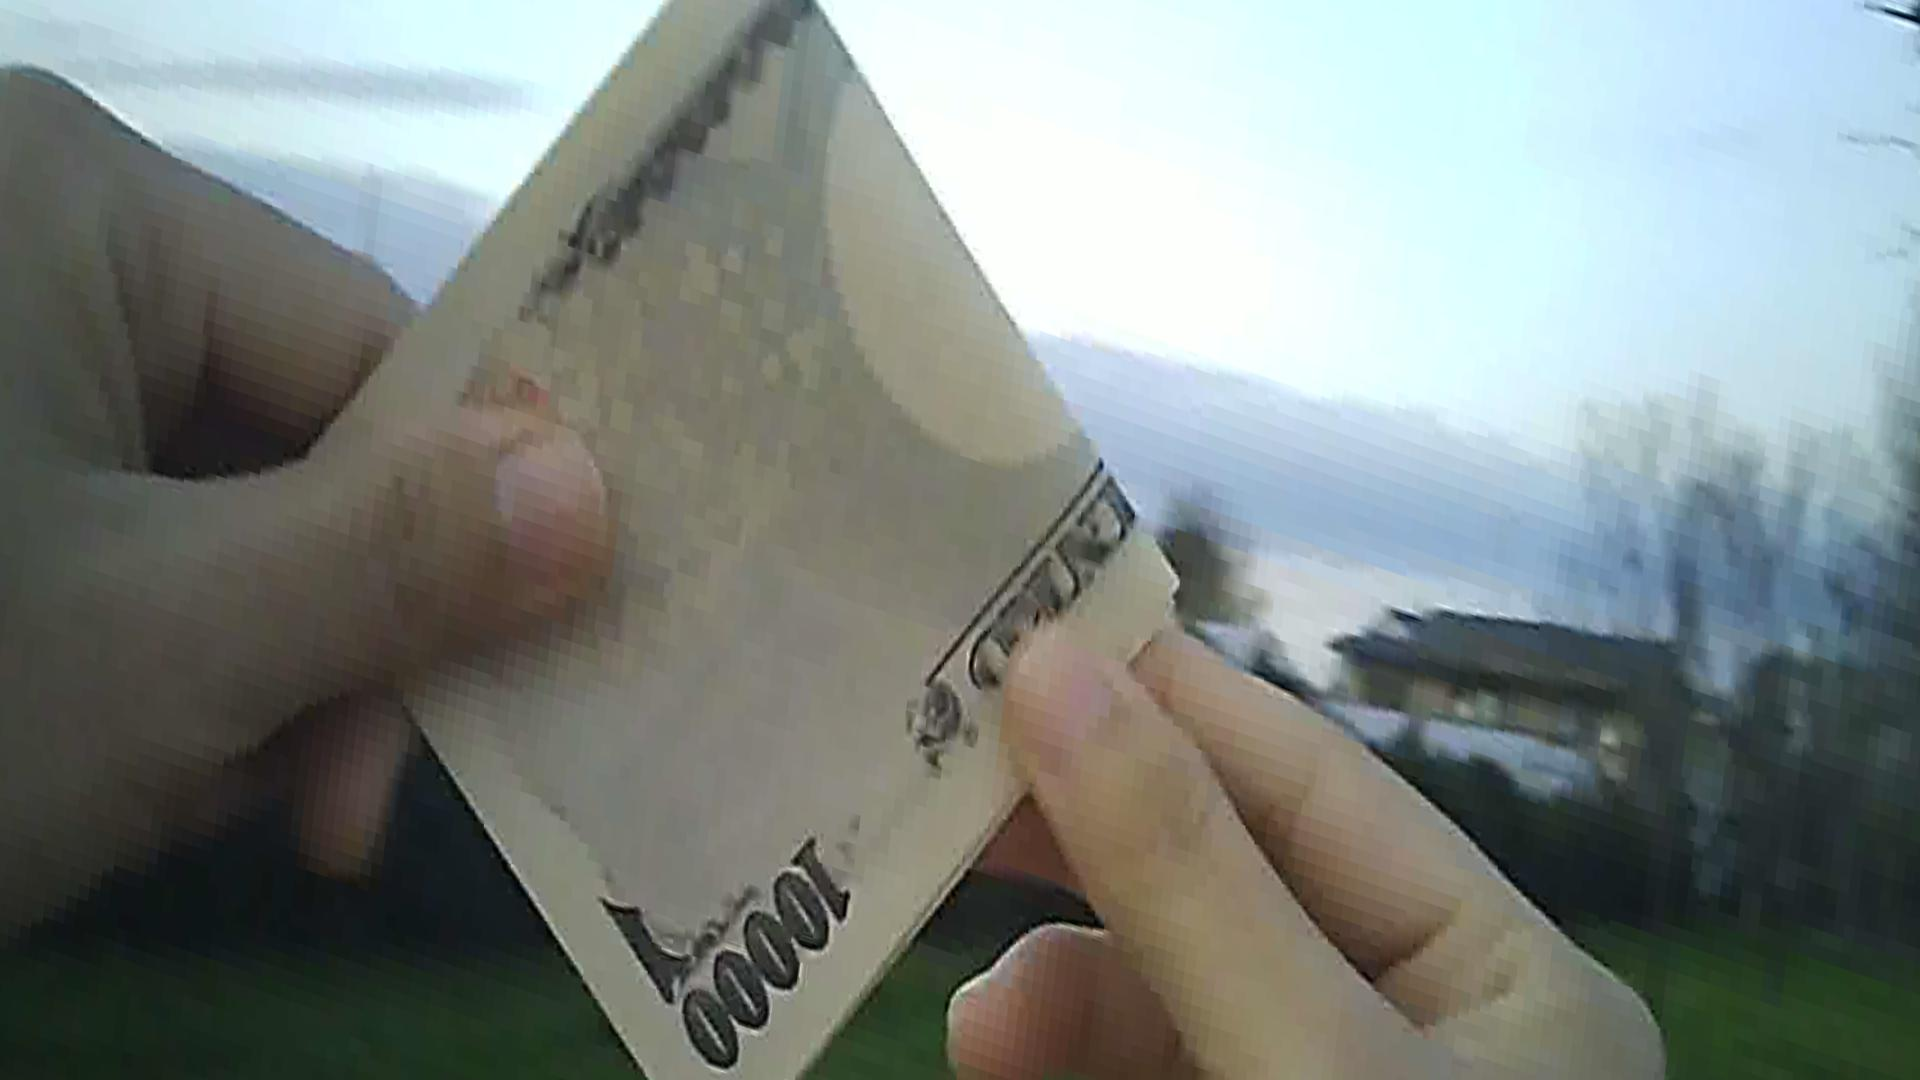10,000 Yen: (270, 7, 1189, 1079)
